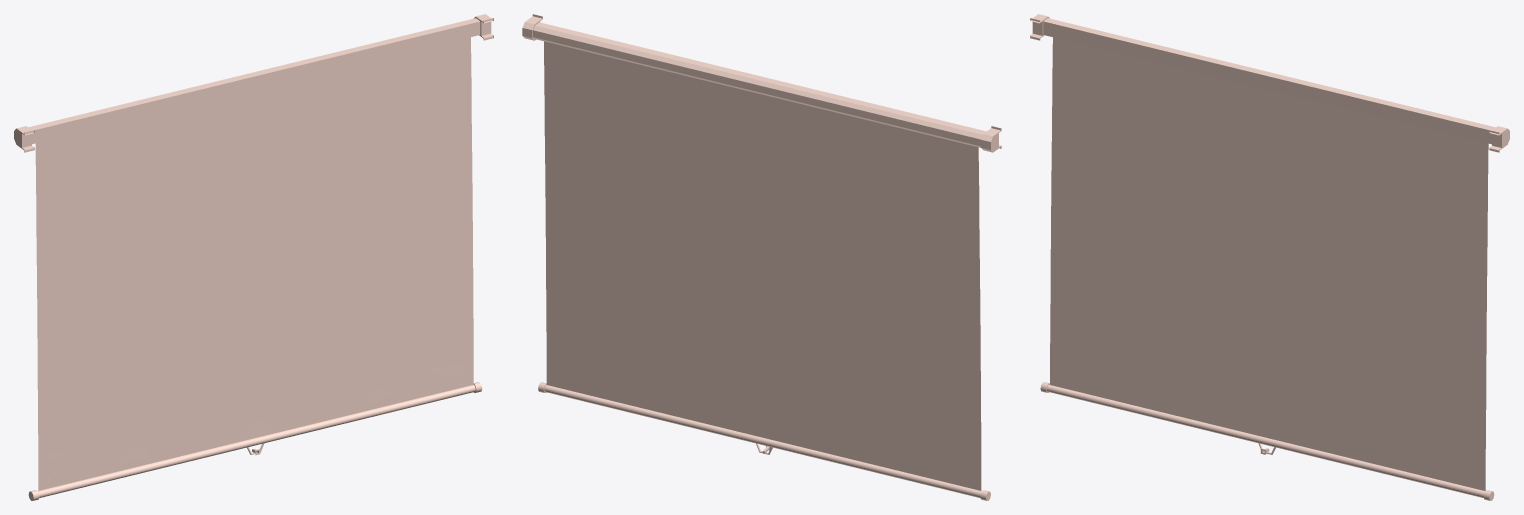
File: projector_screen_reference.fbx
The picture shows the model from 3 angles, left to right: view 1: azimuth 30°, elevation 25°; view 2: azimuth 150°, elevation 25°; view 3: azimuth 330°, elevation 25°; orthographic projection.
Parts seen in each view (by area): view 1: projector_screen_reference; view 2: projector_screen_reference; view 3: projector_screen_reference.
Boxes of the visible parts, <box> form: projector_screen_reference: <box>14,14,493,500</box>; projector_screen_reference: <box>522,14,1001,500</box>; projector_screen_reference: <box>1030,14,1509,500</box>.
Size of the model in its own units: 17950 by 13919 by 705.
